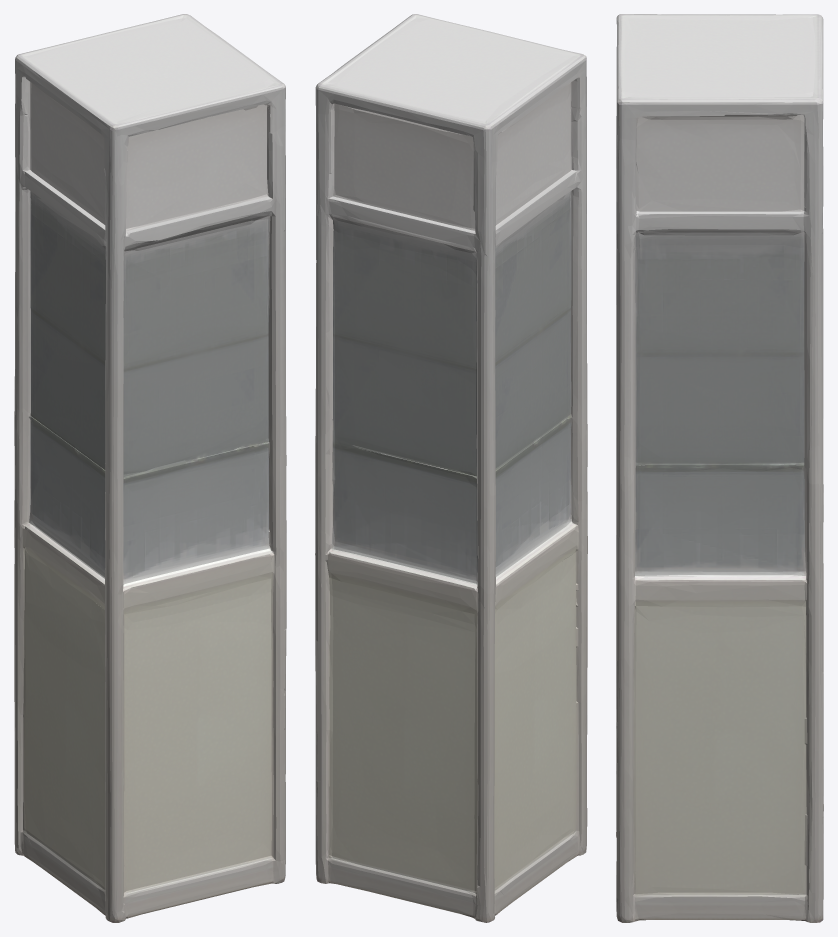
File: isiklivitrin.glb
3 views of the same model, side by side, from view 1: azimuth 30°, elevation 25°; view 2: azimuth 150°, elevation 25°; view 3: azimuth 270°, elevation 25° (orthographic). The views are drawn at different scales.
Bounding box in the file's own units: 23.5 × 100 × 22.92.
1 material, 1 textured.
